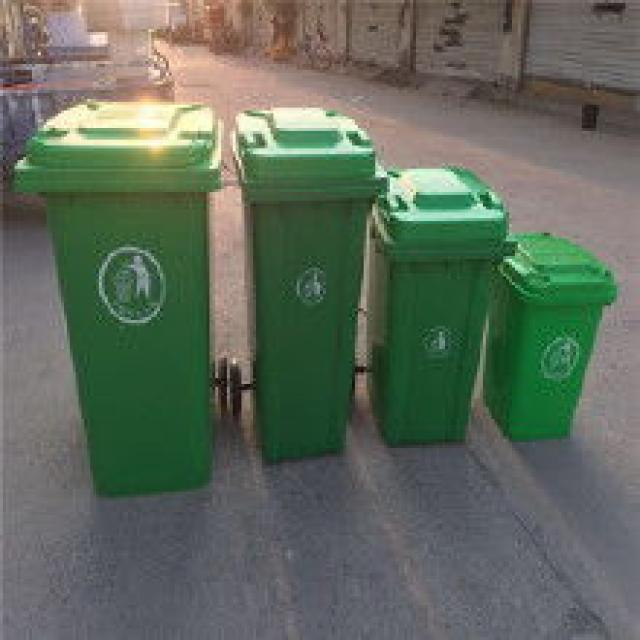garbage_bin: (12, 96, 221, 495), (230, 104, 384, 460), (367, 163, 503, 439), (480, 230, 614, 436)
